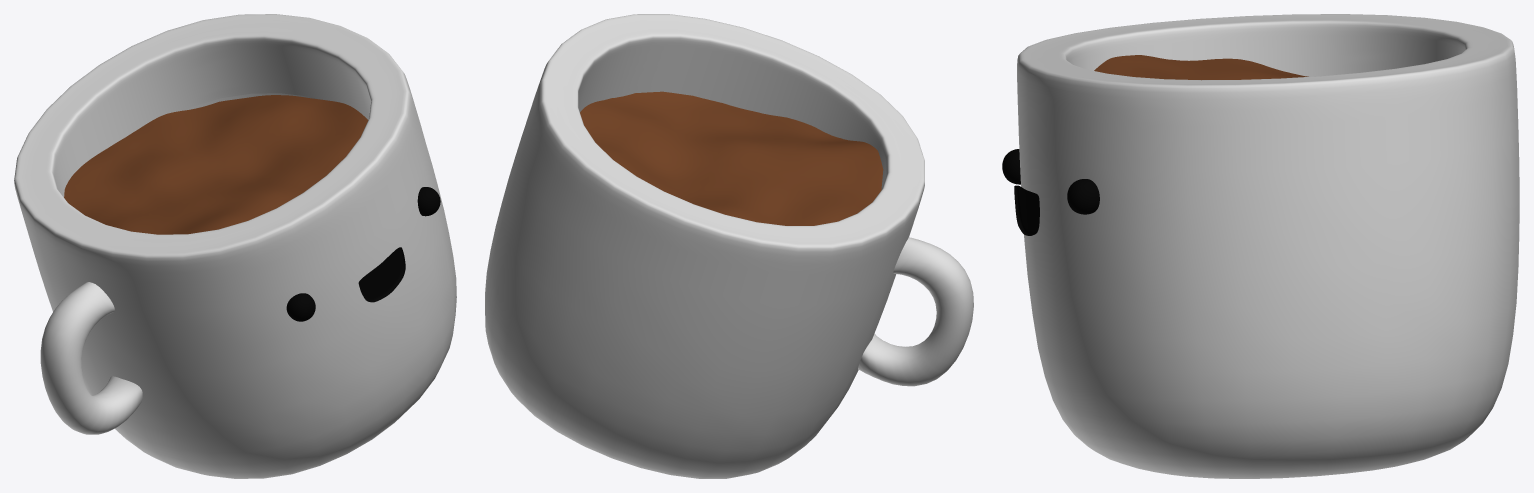
The model's file is cup.glb.
3 views of the same model, side by side, from view 1: azimuth 30°, elevation 25°; view 2: azimuth 150°, elevation 25°; view 3: azimuth 270°, elevation 25° (orthographic). The views are drawn at different scales.
Visible parts, largest first — view 1: Cube_2, Plane_3, Cube.001_4, Cube.004_6, Cube.002_5, Cube.003_7; view 2: Cube_2, Plane_3, Cube.001_4; view 3: Cube_2, Plane_3, Cube.004_6, Cube.003_7, Cube.002_5.
Boxes of the visible parts, x1=… form: Cube_2: x1=14, y1=14, x2=456, y2=478; Plane_3: x1=64, y1=95, x2=368, y2=234; Cube.001_4: x1=40, y1=282, x2=142, y2=434; Cube.004_6: x1=358, y1=247, x2=405, y2=302; Cube.002_5: x1=286, y1=293, x2=315, y2=321; Cube.003_7: x1=417, y1=187, x2=440, y2=216; Cube_2: x1=485, y1=14, x2=924, y2=478; Plane_3: x1=580, y1=91, x2=883, y2=225; Cube.001_4: x1=858, y1=237, x2=973, y2=386; Cube_2: x1=1017, y1=14, x2=1519, y2=478; Plane_3: x1=1094, y1=55, x2=1308, y2=80; Cube.004_6: x1=1014, y1=185, x2=1039, y2=235; Cube.003_7: x1=1067, y1=179, x2=1099, y2=214; Cube.002_5: x1=1002, y1=149, x2=1020, y2=184.
Size of the model in its own units: 2.56 by 2.15 by 2.19.
